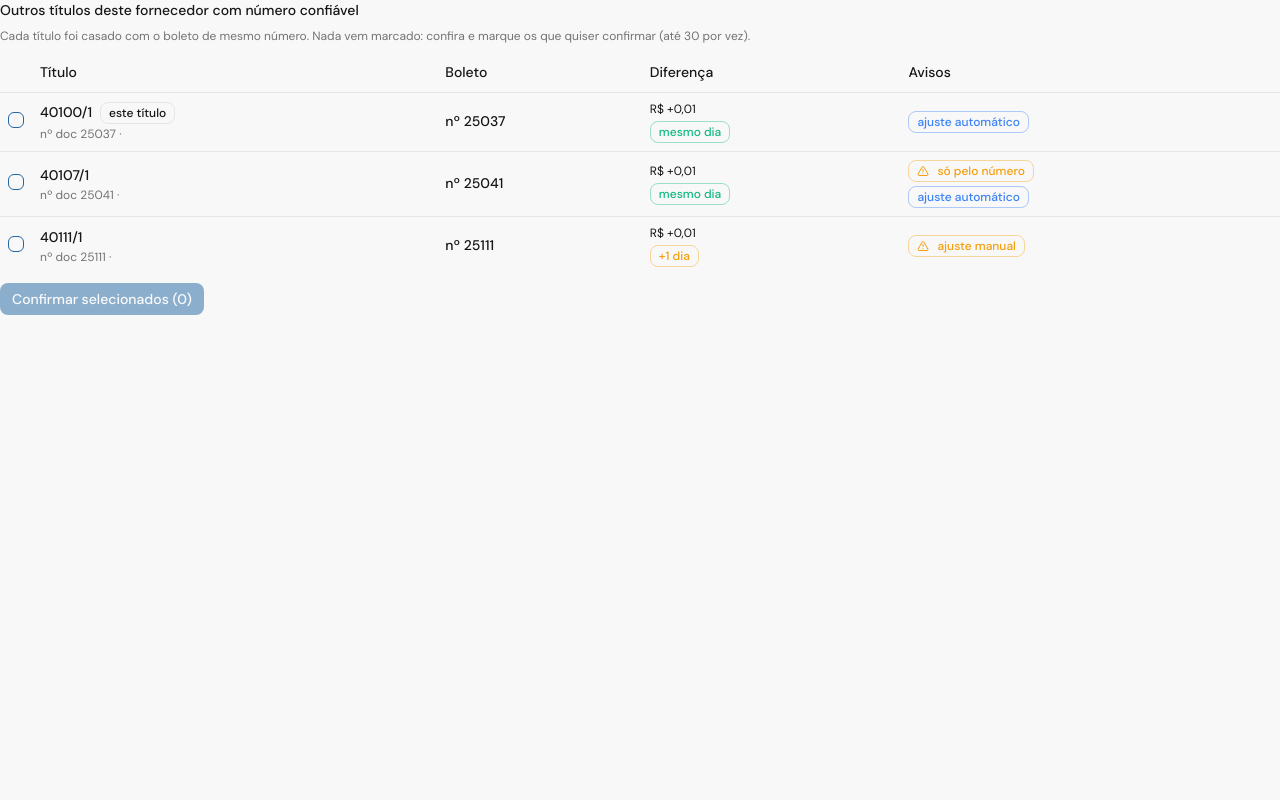
Test: ConfirmacaoEmConjuntoSecao › resumo antes de confirmar, envia só as marcadas e mostra o resultado por linha
Click the checkbox named "Marcar o título 40107/1" at (16, 182), box [8, 174, 24, 190]
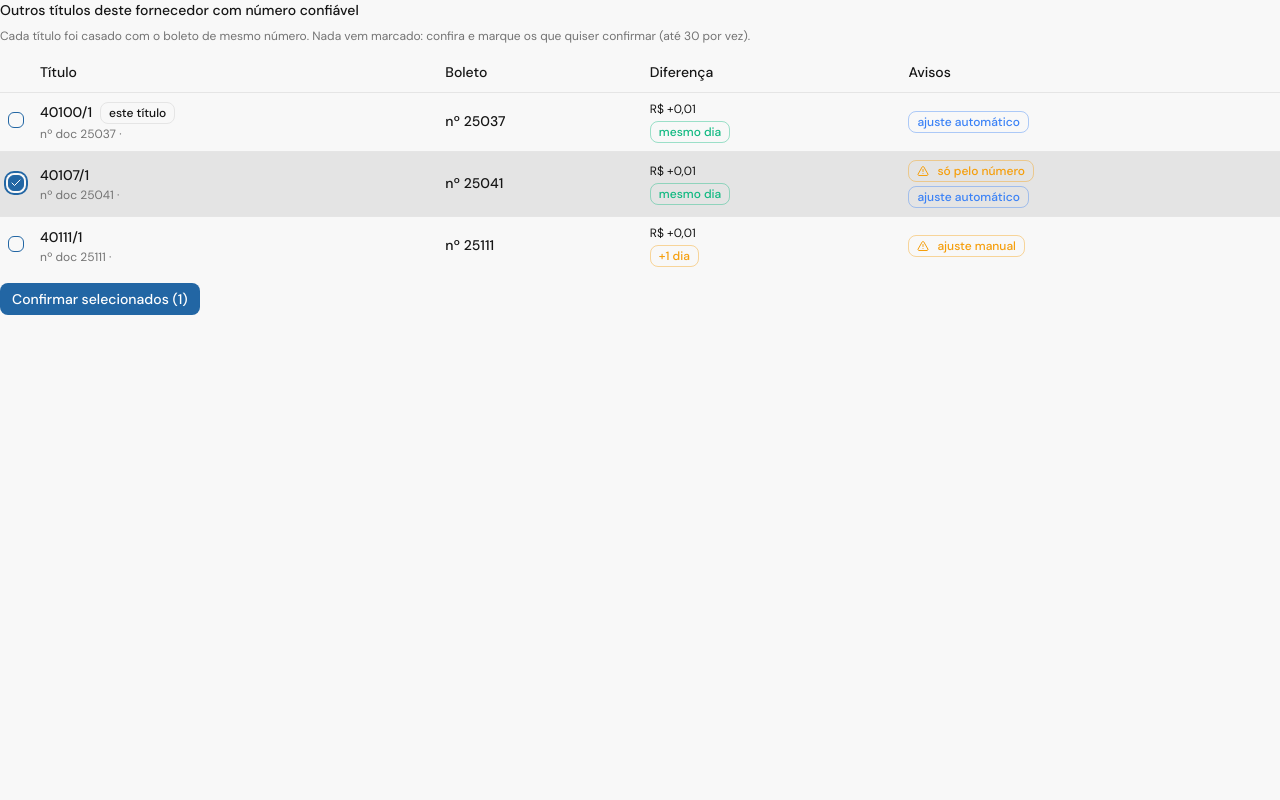
Click the checkbox named "Marcar o título 40111/1" at (16, 244), box [8, 236, 24, 252]
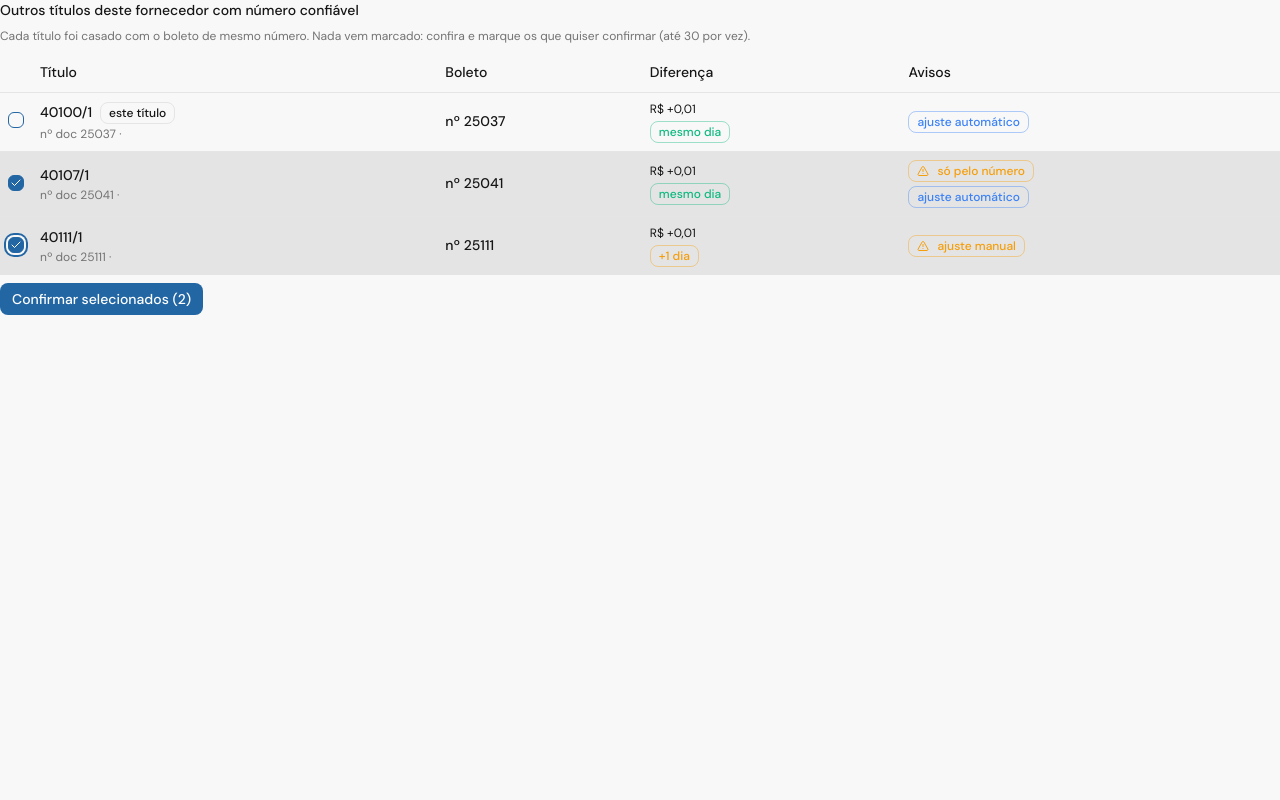
Click the button "Confirmar selecionados (2)" at (102, 298), box [0, 282, 203, 314]
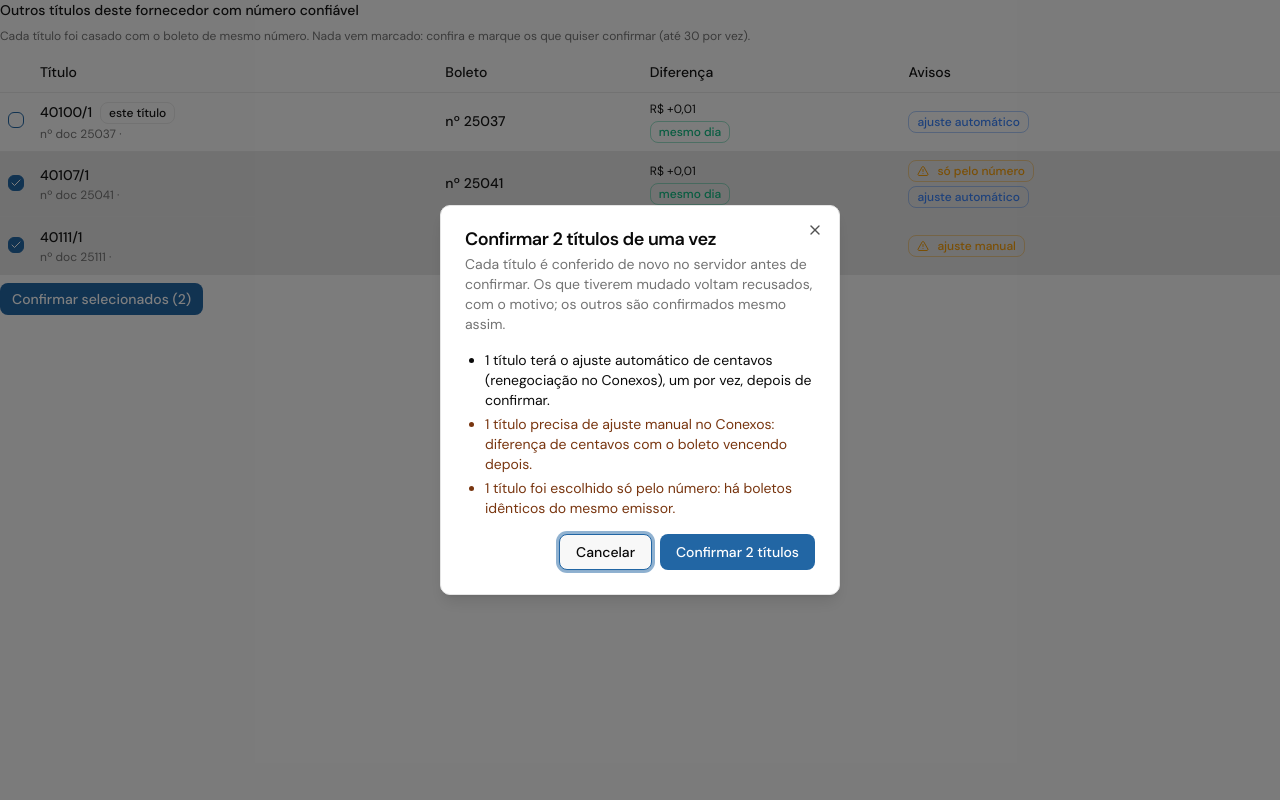
Check: the heading "Confirmar 2 títulos de uma vez" is shown, box [465, 227, 716, 251]
Check: the list item "1 título precisa de ajuste manual" is shown, box [485, 414, 815, 474]
Check: the list item "1 título foi escolhido só" is shown, box [485, 478, 815, 518]
Click the button "Confirmar 2 títulos" at (738, 552), box [660, 534, 815, 570]
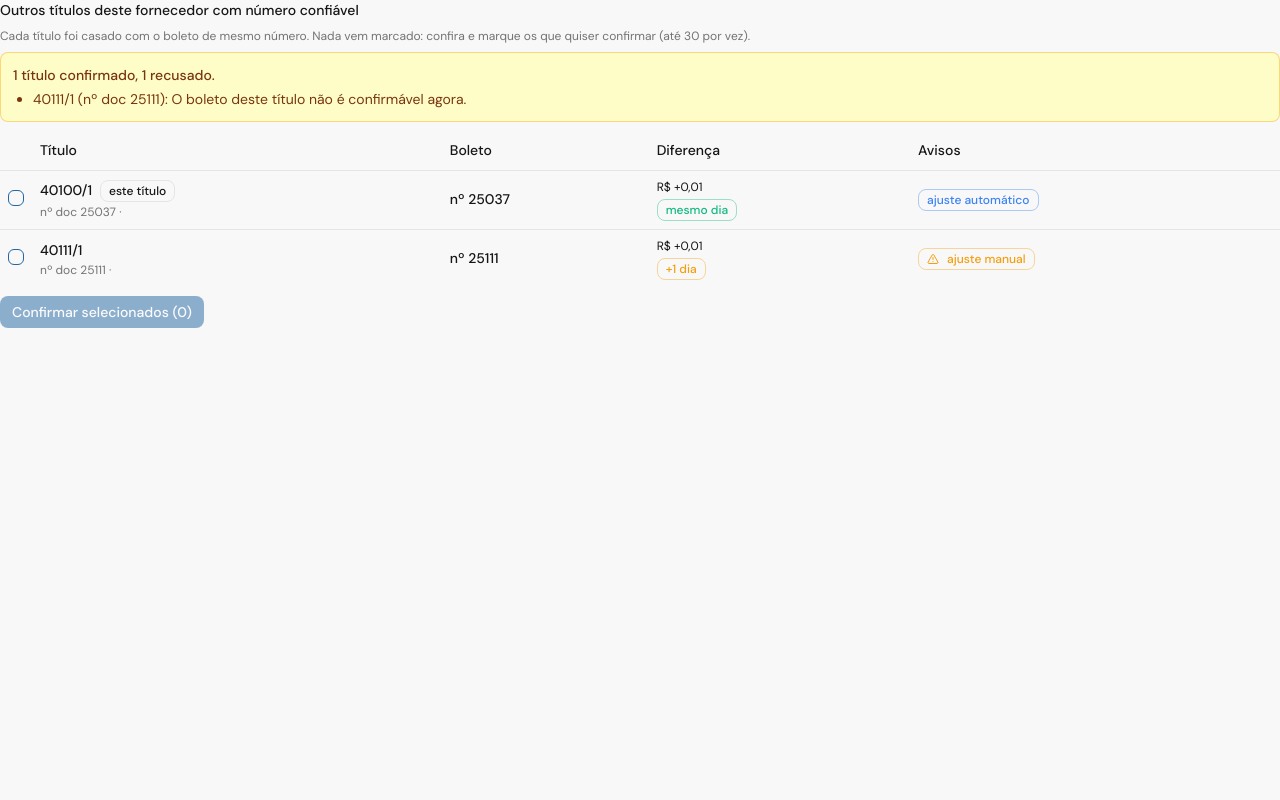
Check: the message shows "1 título confirmado, 1 recusado.", box [0, 52, 1279, 122]
Check: the message shows "40111/1", box [0, 52, 1279, 122]
Check: the message shows "O boleto deste título não é confirmável agora.", box [172, 90, 466, 108]
